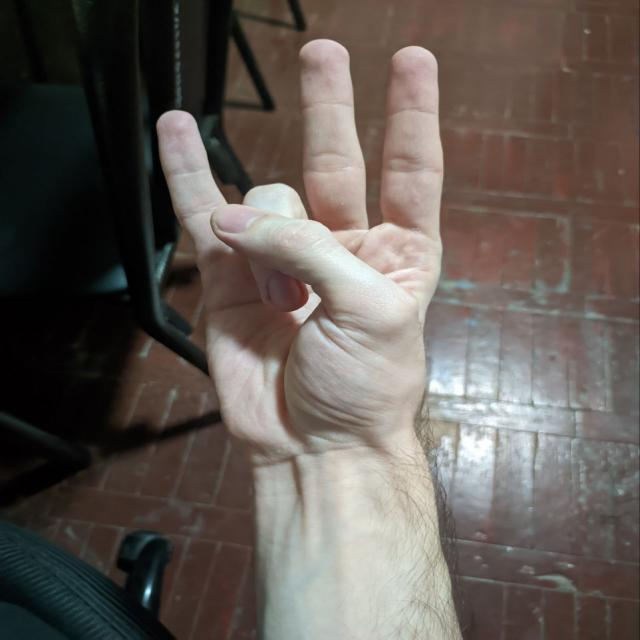n: (140, 32, 523, 488)
